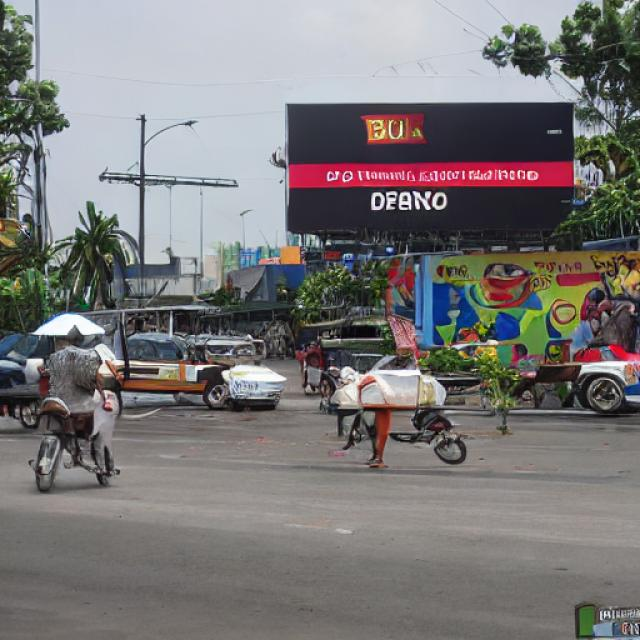Billboard: (288, 98, 577, 236)
